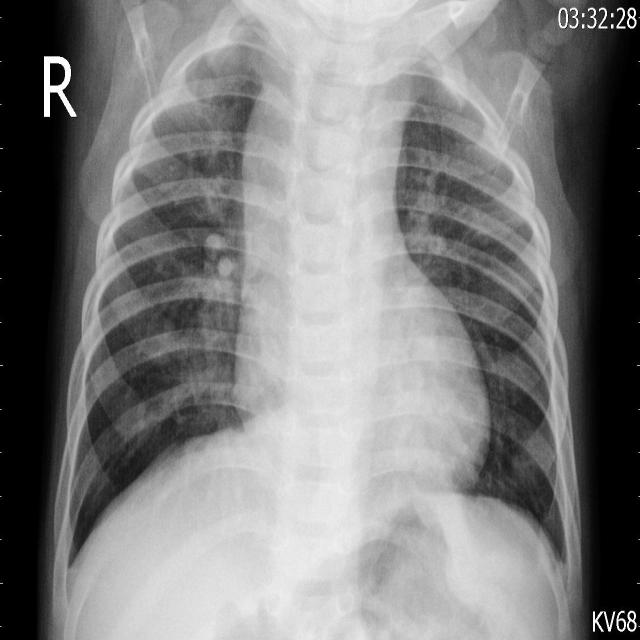low-pneumonia: (401, 27, 534, 235), (170, 224, 246, 410), (166, 25, 261, 163), (400, 146, 479, 280)
